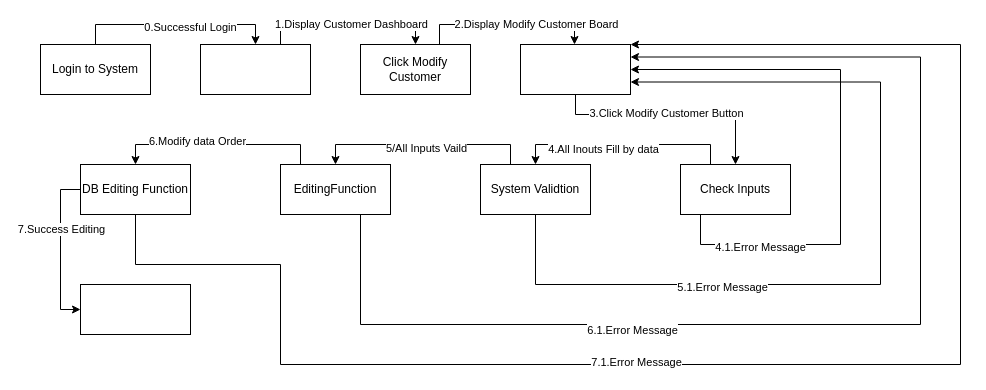
Some shapes in this 986 by 390 pixel diagram are drawn without their labels. The shapes that lost their labels are listed below. From the top down, each one's box as (x1, y1, x2, y2) in pixels, then its label:
(200, 44, 310, 94): Click Customer Section
(520, 44, 630, 94): Modify Customer Form
(80, 284, 190, 334): Successful Message
